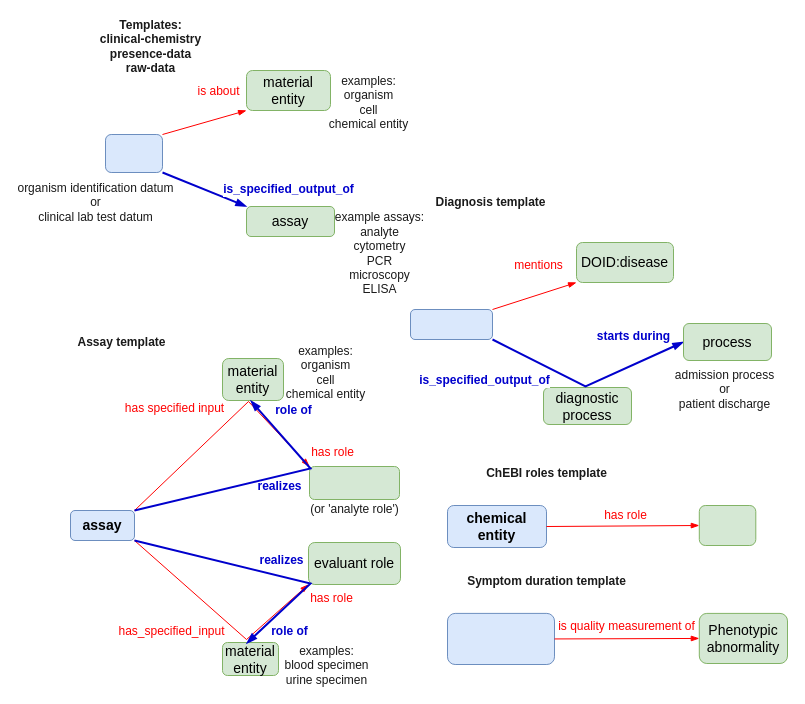
This 805x704 diagram has some shape labels left out. The centre of each missing label's shape, as x and y in pixels:
"data item" belongs at point (133, 153).
"diagnosis" belongs at point (451, 324).
"measurand role" belongs at point (354, 483).
"role" belongs at point (727, 525).
"time measurement datum" belongs at point (500, 638).
